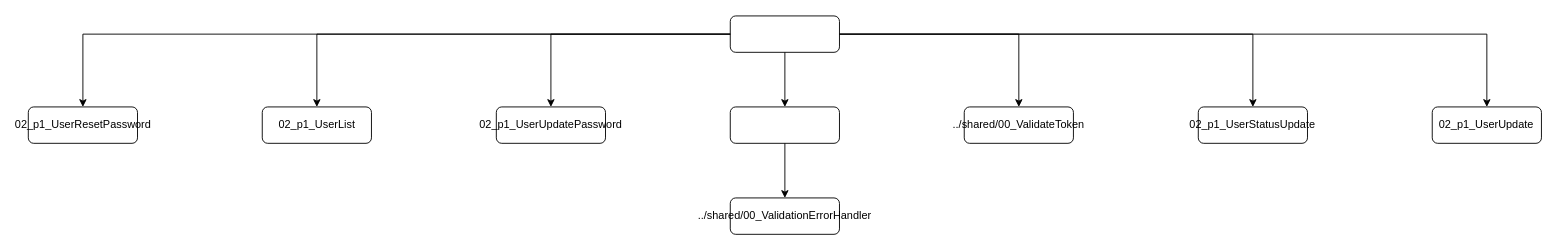
This 1558x250 diagram has some shape labels left out. The shapes that lost their labels are listed below. From the top down, each one's centre as x and y in pixels, then its label:
At point 784,33: "01_p1_UserOrchestration".
At point 784,124: "02_p1_UserCreate".
